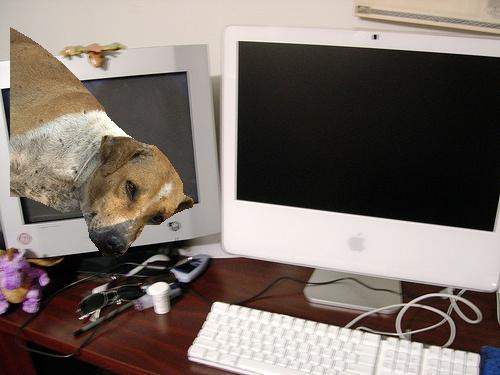tampered: (11, 28, 194, 257)
